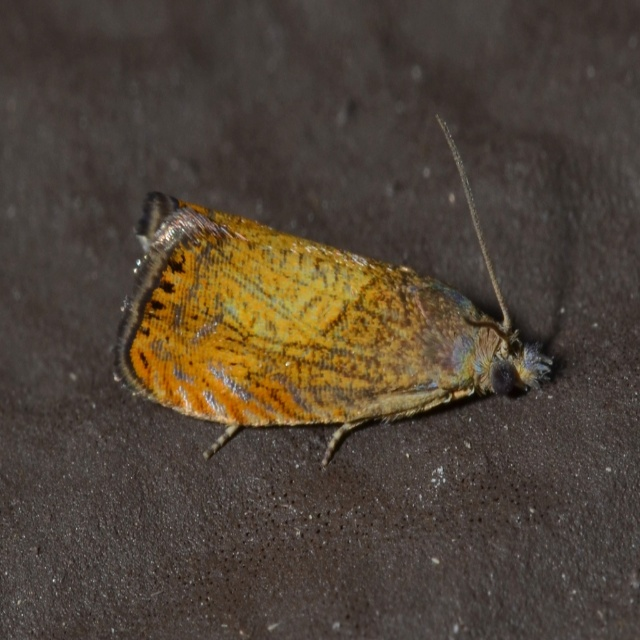Butterfly: (112, 111, 555, 470)
